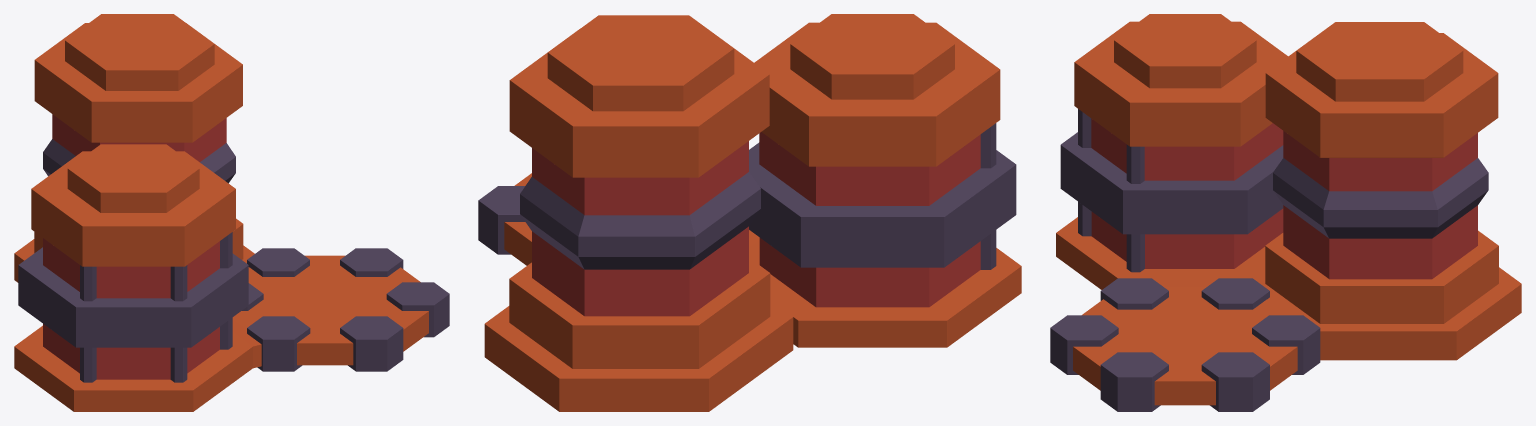
The model's file is Altar (v.1).fbx.
3 renders of one model, left to right at view 1: azimuth 30°, elevation 25°; view 2: azimuth 150°, elevation 25°; view 3: azimuth 270°, elevation 25°, orthographic. The views are drawn at different scales.
Parts seen in each view (by area): view 1: altar; view 2: altar; view 3: altar.
Boxes of the visible parts, x1,y1,x2,y2 form: altar: (14,14,449,411); altar: (478,14,1021,411); altar: (1050,14,1521,411).
Size of the model in its own units: 339 by 209 by 341.
